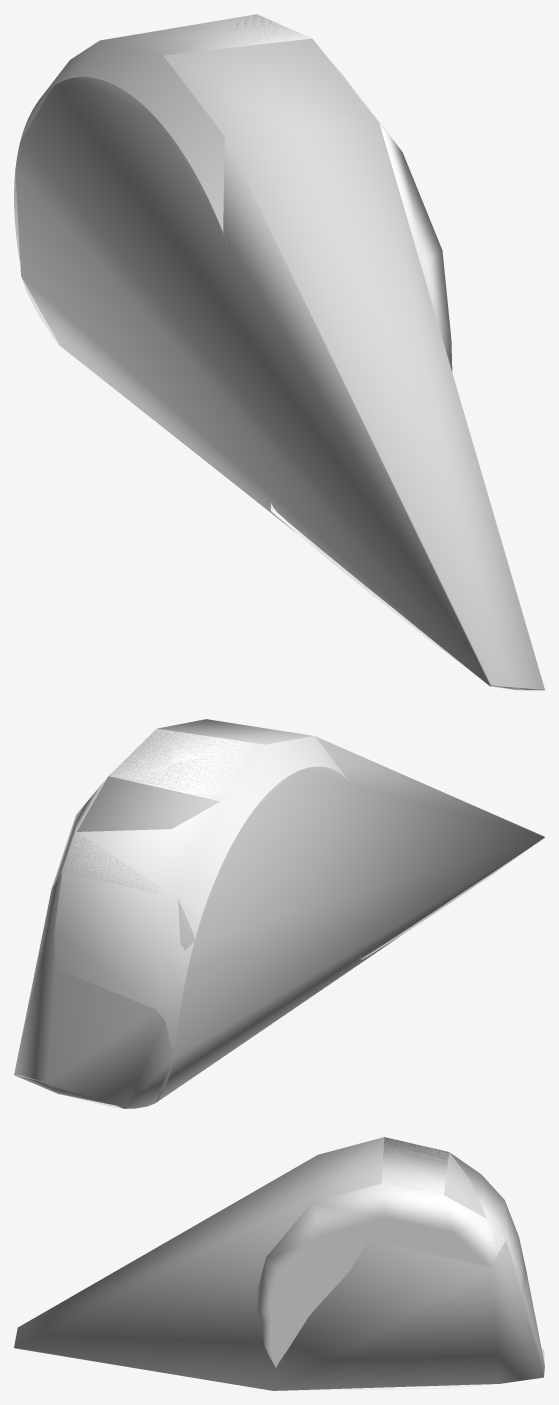
The picture shows the model from 3 angles, top to bottom: view 1: azimuth 30°, elevation 25°; view 2: azimuth 150°, elevation 25°; view 3: azimuth 270°, elevation 25°; orthographic projection. The views are drawn at different scales.
Visible parts, largest first — view 1: hub_eclipse_rear_01_col, hub_eclipse_rear_01; view 2: hub_eclipse_rear_01_col, hub_eclipse_rear_01; view 3: hub_eclipse_rear_01_col, hub_eclipse_rear_01.
Part boxes in pixels (x1,y1,x2,y2): hub_eclipse_rear_01_col: (15, 14, 544, 689); hub_eclipse_rear_01: (14, 14, 544, 690); hub_eclipse_rear_01_col: (14, 719, 544, 1108); hub_eclipse_rear_01: (15, 728, 540, 1108); hub_eclipse_rear_01_col: (14, 1137, 544, 1390); hub_eclipse_rear_01: (256, 1137, 544, 1390).
Bounding box in the file's own units: 0.3926 × 0.6752 × 1.58.
Materials: 4 (4 with a texture image).
